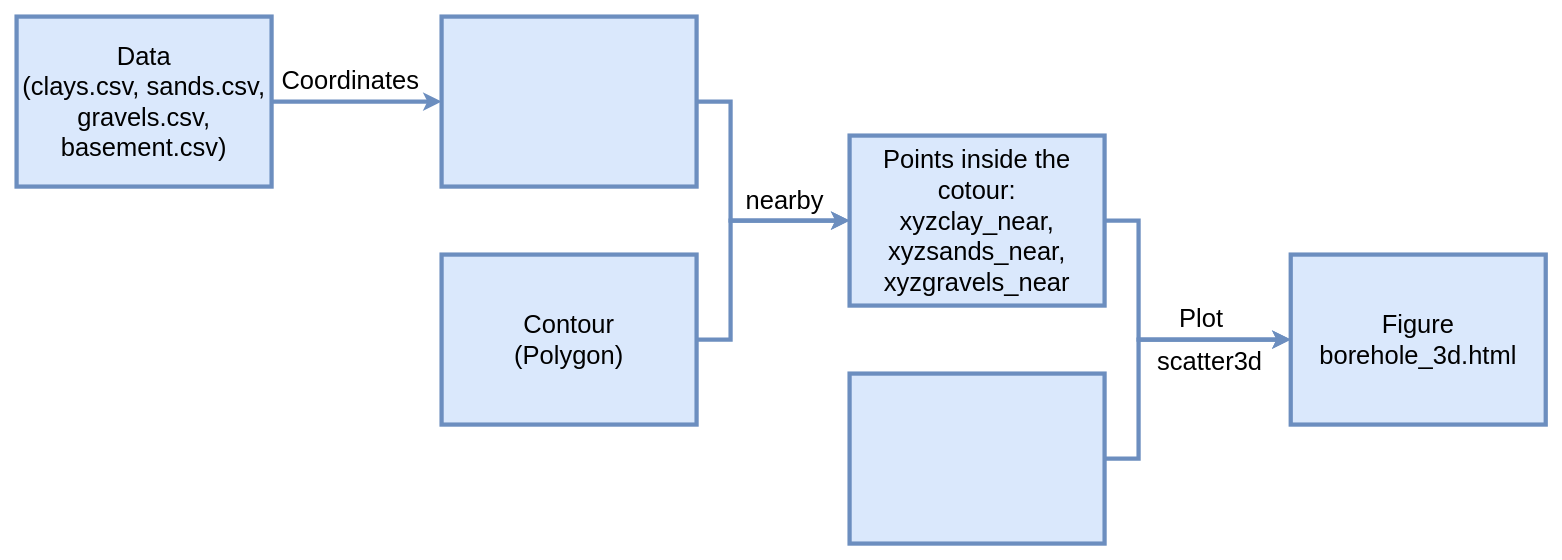
Image size: 1562x560. Some labels were removed from this diagram. Here are the shapes that lost their labels. From the top down, the centre of each, then its label:
(568,101): xyzclays, xyzsands, xyzgravels
(976,458): Figure parameters: names, symbols, opacity.
